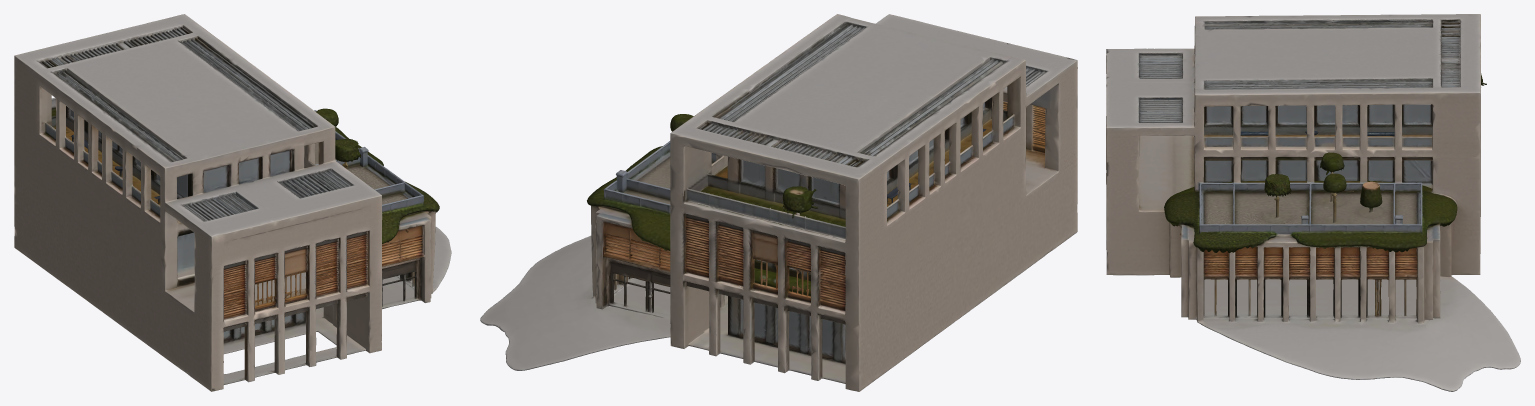
The model's file is shopblk2.glb.
The picture shows the model from 3 angles, left to right: view 1: azimuth 30°, elevation 25°; view 2: azimuth 150°, elevation 25°; view 3: azimuth 270°, elevation 25°; orthographic projection. The views are drawn at different scales.
Parts seen in each view (by area): view 1: tripo_node_5acd3120-45ed-42f4-8d7c-3d152befa4bf; view 2: tripo_node_5acd3120-45ed-42f4-8d7c-3d152befa4bf; view 3: tripo_node_5acd3120-45ed-42f4-8d7c-3d152befa4bf.
Boxes of the visible parts, <box> form: tripo_node_5acd3120-45ed-42f4-8d7c-3d152befa4bf: <box>14,14,451,391</box>; tripo_node_5acd3120-45ed-42f4-8d7c-3d152befa4bf: <box>480,14,1077,391</box>; tripo_node_5acd3120-45ed-42f4-8d7c-3d152befa4bf: <box>1106,14,1520,391</box>.
Bounding box in the file's own units: 19.62 × 12 × 20.81.
Materials: 1 (1 with a texture image).
